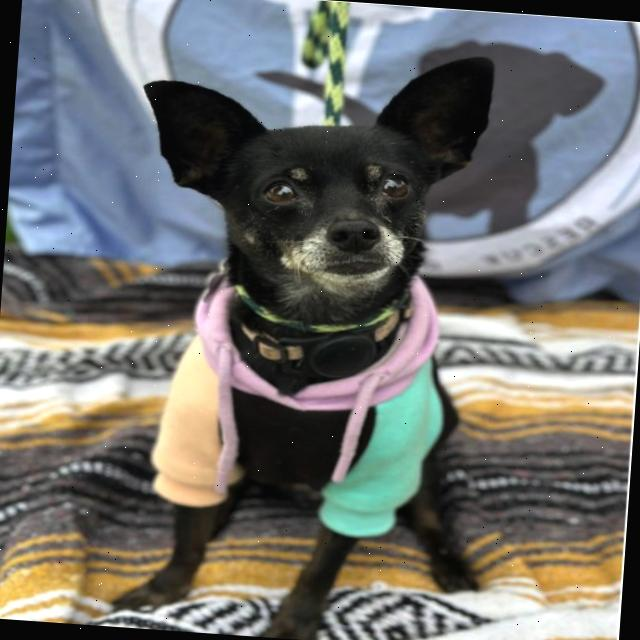chihuahua_dog: (127, 23, 522, 330)
